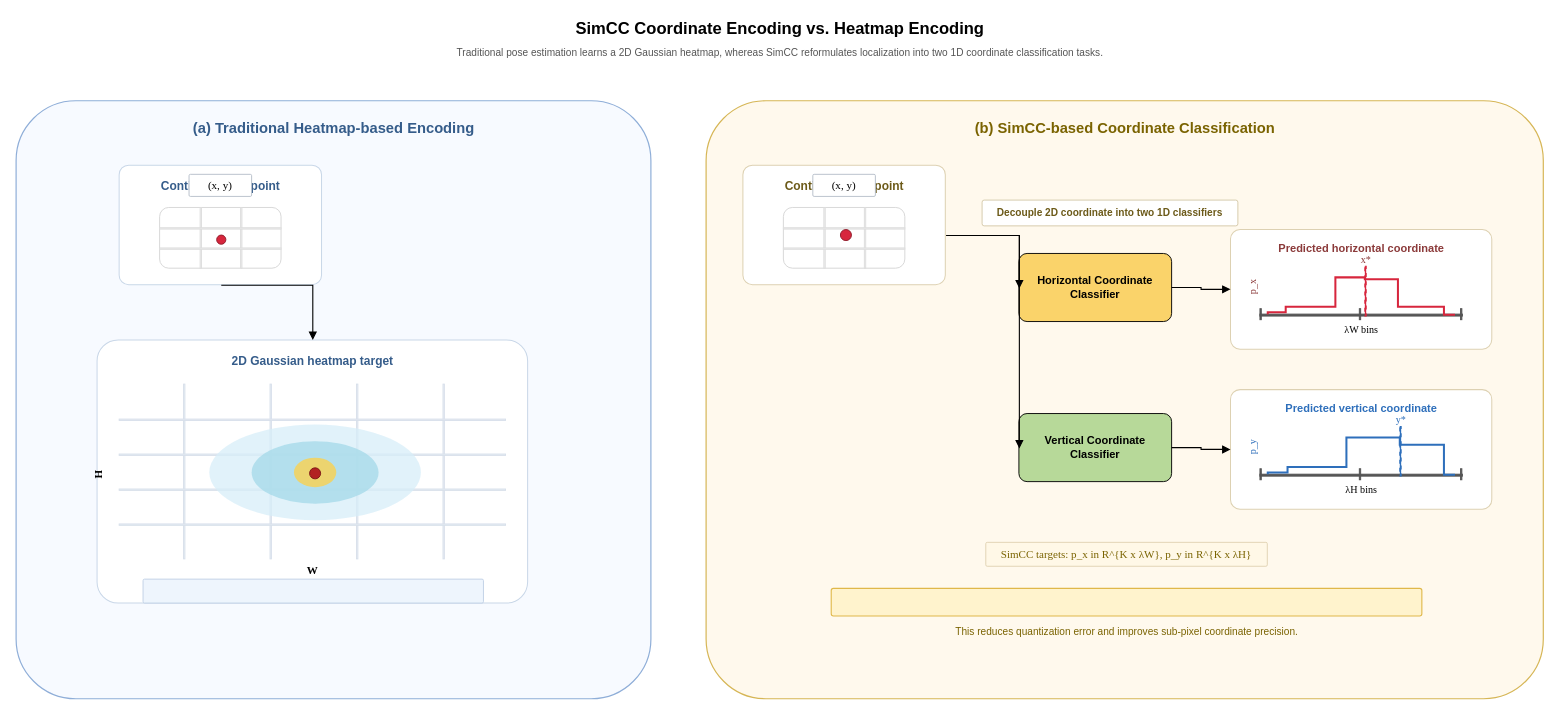
Image size: 1560x715. Some labels were removed from this diagram. Here are the shapes that lost their labels. From the top down, the centre of each, then its label:
At (312,590): "Target heatmap: G(x,y) in R^{K x H x W}".
At (1126,601): "Scaling factor λ enlarges the classification space: W -> λW bins, H -> λH bins".
